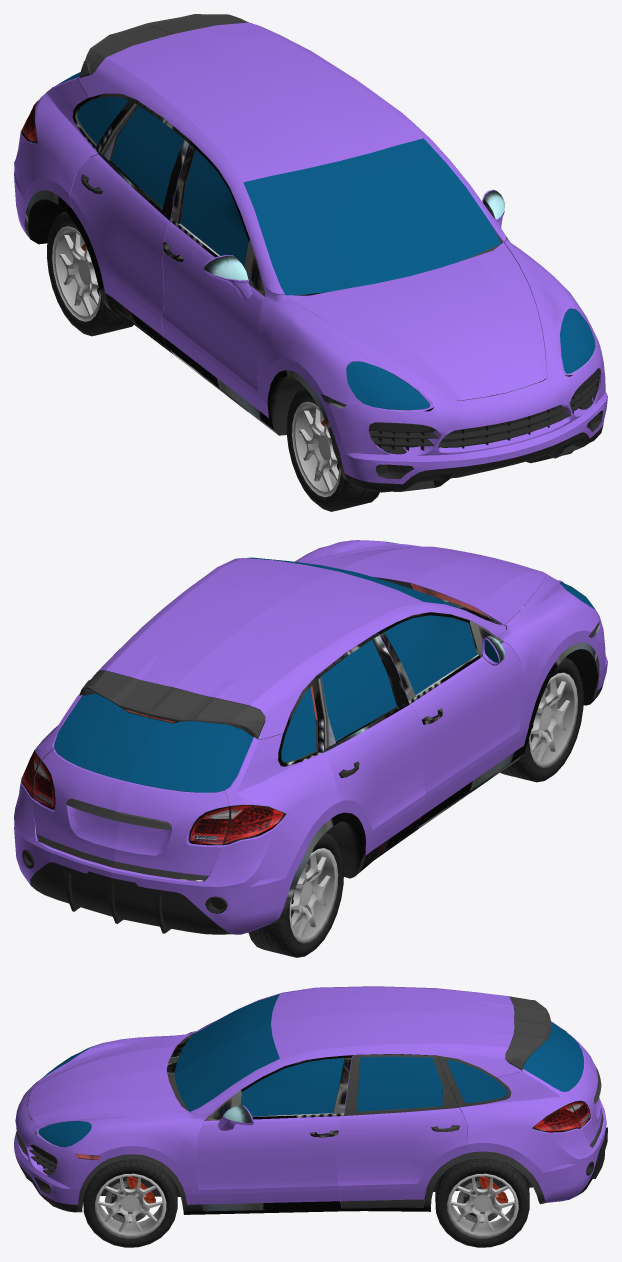
Rendered from Car3.fbx.
3 renders of one model, top to bottom at view 1: azimuth 30°, elevation 25°; view 2: azimuth 150°, elevation 25°; view 3: azimuth 270°, elevation 25°, orthographic. The views are drawn at different scales.
Parts seen in each view (by area): view 1: Roof, Front_Glass_, Body, Hood, BumperF, Door, DC3_SUV_1_Door_BR, DC3_SUV_1_Window_Door_FR_Glass__1, DC3_SUV_1_Window_Door_BR_Glass_, Metal, Metal_1, Trunk (+6 smaller); view 2: Roof, Body, Trunk, Door, Back_Glass_, BumperB, DC3_SUV_1_Door_BR, Hood, DC3_SUV_1_Window_Door_BR_Glass_, DC3_SUV_1_Window_Door_FR_Glass__1, Metal, Metal_1 (+7 smaller); view 3: Body, Roof, Door_1, DC3_SUV_1_Door_BR_1, Hood, Front_Glass_, DC3_SUV_1_Window_Door_FR_Glass_, DC3_SUV_1_Window_Door_BR_Glass__1, BumperF, Trunk, Tire_2, Tire_3 (+10 smaller).
Part boxes in pixels (<box>): Roof: <box>78,22,506,294</box>; Front_Glass_: <box>243,138,501,295</box>; Body: <box>14,77,599,483</box>; Hood: <box>286,242,546,400</box>; BumperF: <box>328,344,607,492</box>; Door: <box>162,140,265,419</box>; DC3_SUV_1_Door_BR: <box>70,100,190,346</box>; DC3_SUV_1_Window_Door_FR_Glass__1: <box>180,149,248,266</box>; DC3_SUV_1_Window_Door_BR_Glass_: <box>111,105,183,207</box>; Metal: <box>52,226,100,321</box>; Metal_1: <box>292,401,340,497</box>; Trunk: <box>56,14,251,110</box>; Roof: <box>78,558,506,739</box>; Body: <box>14,540,604,924</box>; Trunk: <box>34,670,264,879</box>; Door: <box>377,612,523,827</box>; Back_Glass_: <box>54,693,253,792</box>; BumperB: <box>14,830,294,934</box>; DC3_SUV_1_Door_BR: <box>316,632,425,867</box>; Hood: <box>310,546,546,624</box>; DC3_SUV_1_Window_Door_BR_Glass_: <box>321,640,396,741</box>; DC3_SUV_1_Window_Door_FR_Glass__1: <box>384,615,476,694</box>; Metal: <box>289,848,338,943</box>; Metal_1: <box>529,672,577,767</box>; Body: <box>27,1009,606,1214</box>; Roof: <box>189,986,521,1119</box>; Door_1: <box>196,1055,352,1211</box>; DC3_SUV_1_Door_BR_1: <box>338,1054,467,1208</box>; Hood: <box>28,1034,189,1120</box>; Front_Glass_: <box>174,994,279,1111</box>; DC3_SUV_1_Window_Door_FR_Glass_: <box>240,1058,344,1116</box>; DC3_SUV_1_Window_Door_BR_Glass__1: <box>357,1056,442,1111</box>; BumperF: <box>14,1081,90,1212</box>; Trunk: <box>505,996,603,1147</box>; Tire_2: <box>435,1158,529,1247</box>; Tire_3: <box>83,1159,177,1247</box>.
Size of the model in its own units: 317 by 269 by 749.
